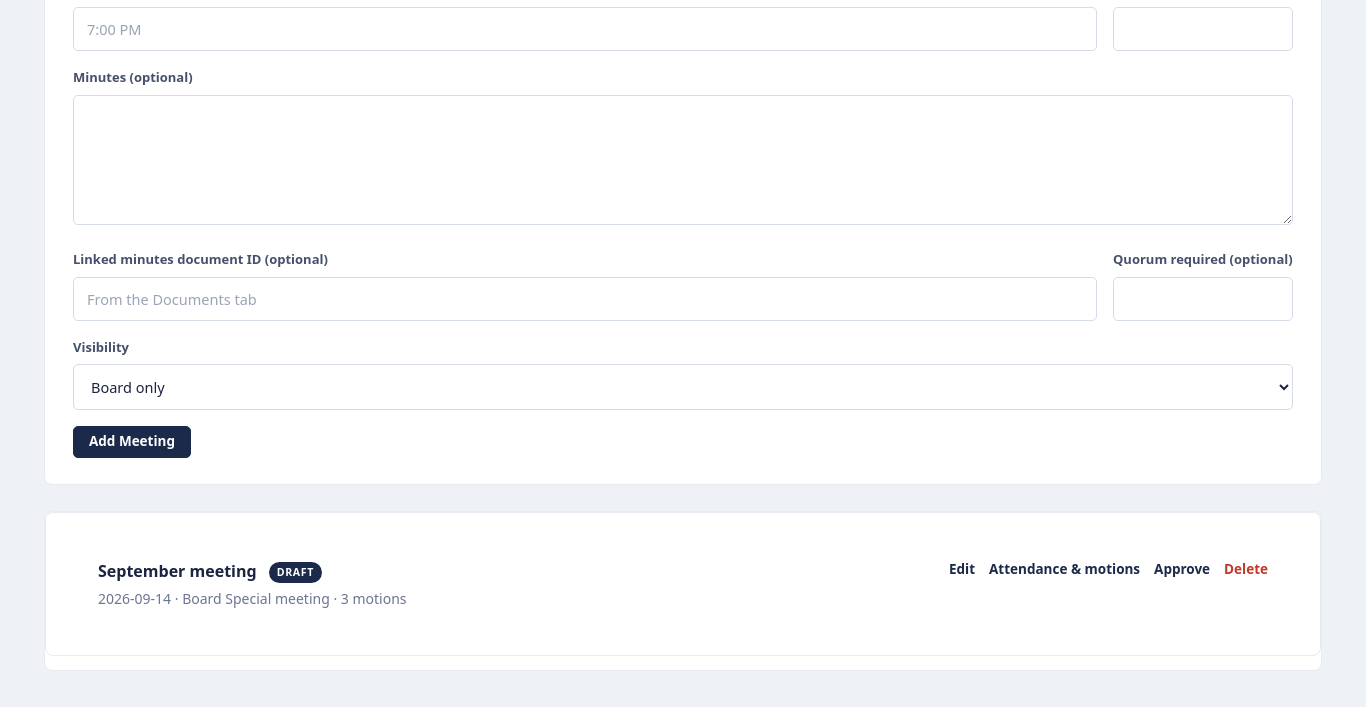
it: MeetingsManager › lists motions loaded from the detail read
(page scrolled)
Check: the text "September meeting" is shown, box [98,560,257,582]
Click the button "Attendance & motions" at (1064, 570), box [989,559,1140,580]
(page scrolled)
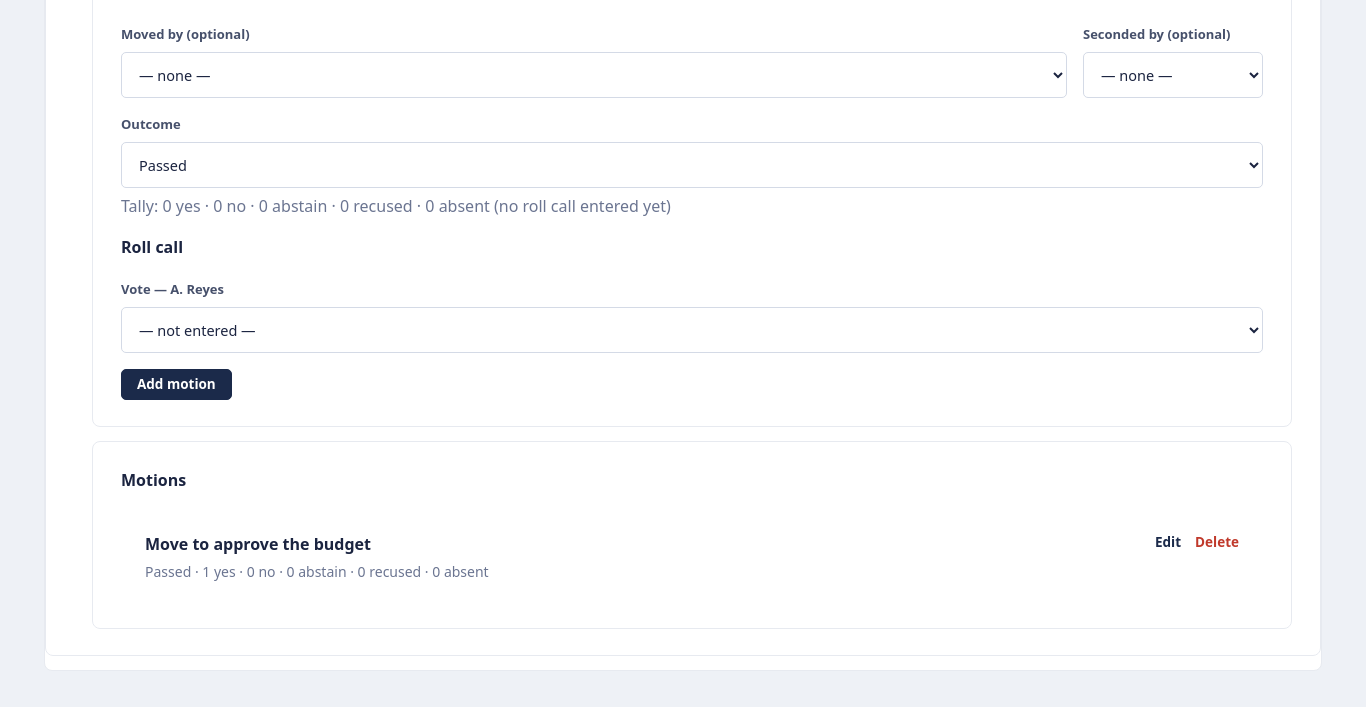
Check: the text "Move to approve the budget" is shown, box [145,533,371,555]
